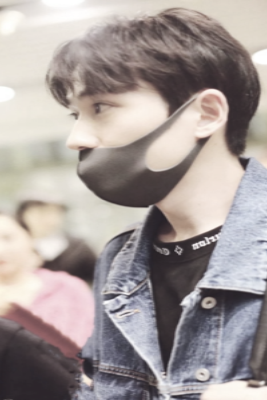mask_weared_incorrect: (66, 97, 198, 207)
